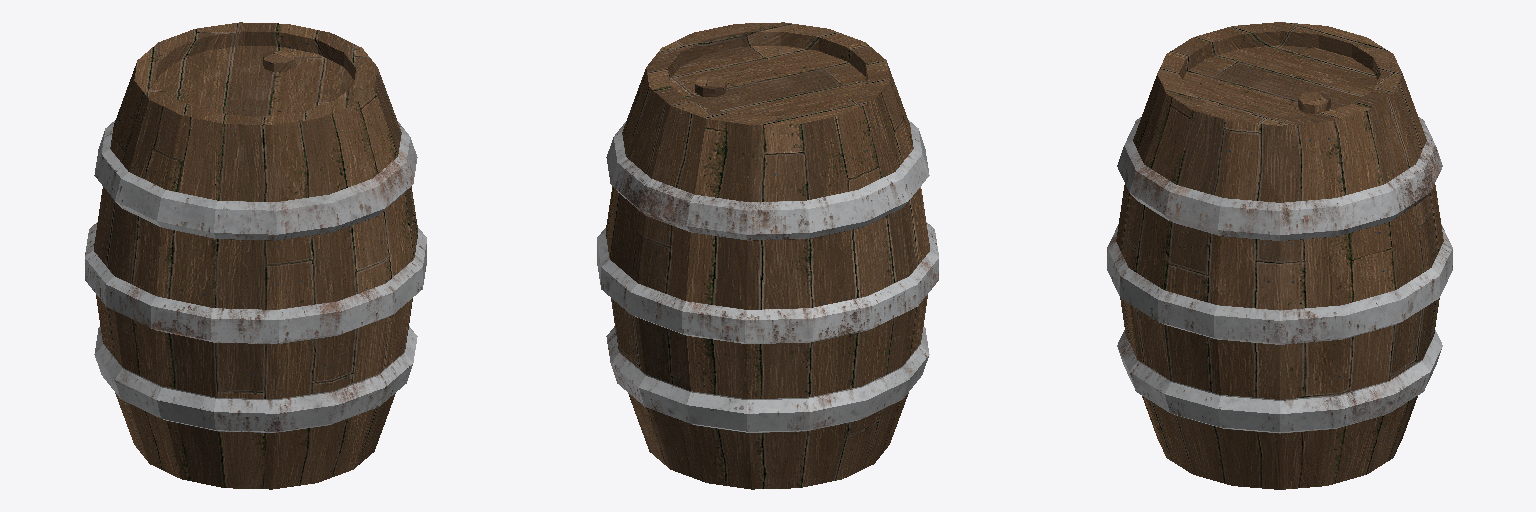
3 renders of one model, left to right at view 1: azimuth 30°, elevation 25°; view 2: azimuth 150°, elevation 25°; view 3: azimuth 270°, elevation 25°, orthographic.
Visible parts, largest first — view 1: Cylinder; view 2: Cylinder; view 3: Cylinder.
Boxes of the visible parts, x1=… form: Cylinder: x1=85, y1=22, x2=426, y2=489; Cylinder: x1=597, y1=22, x2=938, y2=489; Cylinder: x1=1107, y1=22, x2=1452, y2=489.
Size of the model in its own units: 0.7738 by 0.9 by 0.7738.
1 materials, 1 textured.